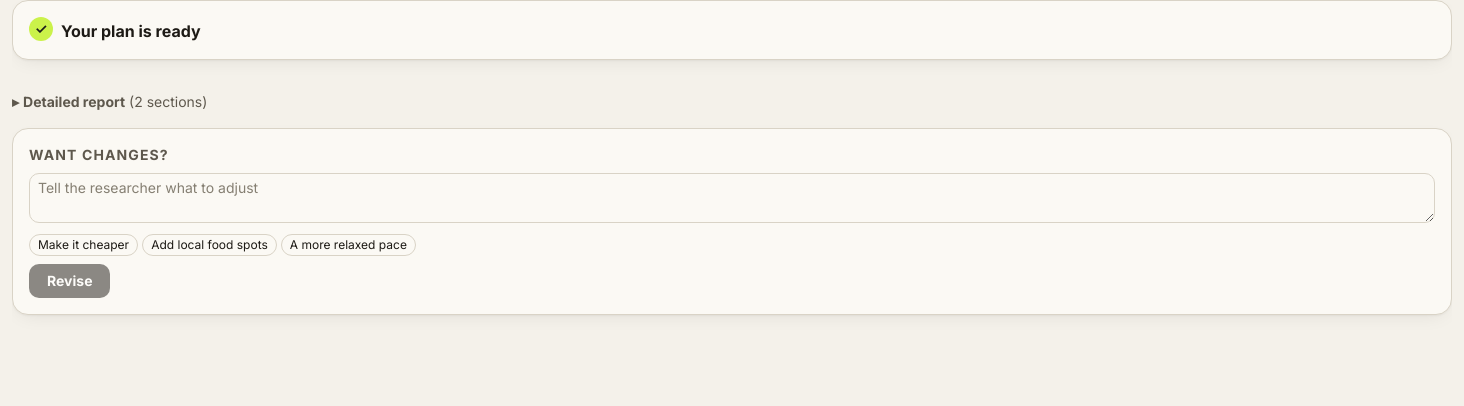
Test: ResearchTab › renders the plan view with a collapsible detailed report
This screenshot has width=1464, height=406.
expect the heading "Your plan is ready" is shown: met, box [61,17,201,43]
Step 1. Click the button "▸ Detailed report (2 sections)" → (74, 102), box [12,92,1452,112]
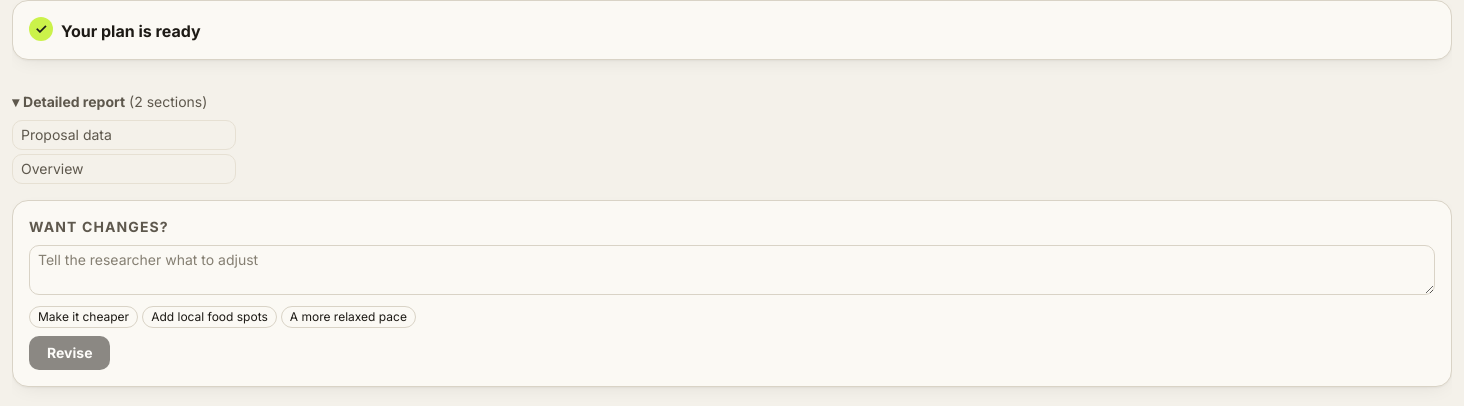
expect the button "Overview" is shown: met, box [12,154,236,184]
